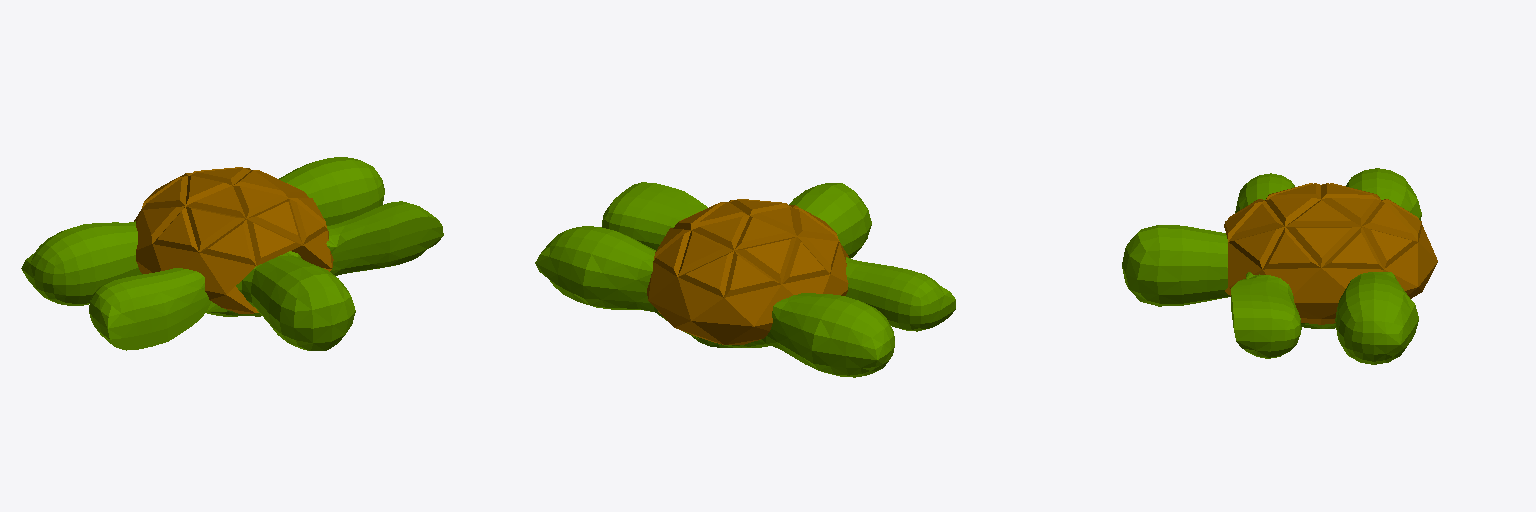
Rendered from turtle2.obj.
3 views of the same model, side by side, from view 1: azimuth 30°, elevation 25°; view 2: azimuth 150°, elevation 25°; view 3: azimuth 270°, elevation 25° (orthographic).
Visible parts, largest first — view 1: Vertex_Object_1, Vertex_Object; view 2: Vertex_Object_1, Vertex_Object; view 3: Vertex_Object_1, Vertex_Object.
Boxes of the visible parts, x1=… form: Vertex_Object_1: x1=21, y1=157, x2=443, y2=350; Vertex_Object: x1=134, y1=167, x2=333, y2=313; Vertex_Object_1: x1=535, y1=182, x2=955, y2=377; Vertex_Object: x1=647, y1=199, x2=848, y2=344; Vertex_Object_1: x1=1122, y1=168, x2=1421, y2=364; Vertex_Object: x1=1224, y1=183, x2=1437, y2=324.
Size of the model in its own units: 115 by 37.11 by 91.38.